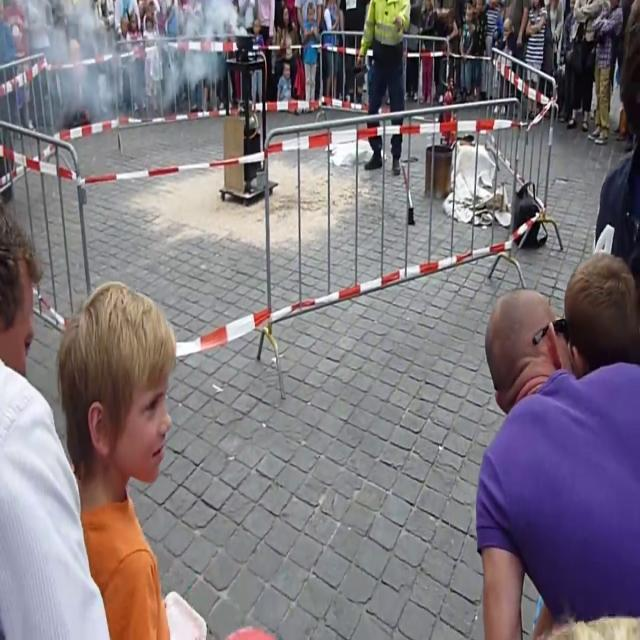Smoke: (0, 1, 238, 125)
